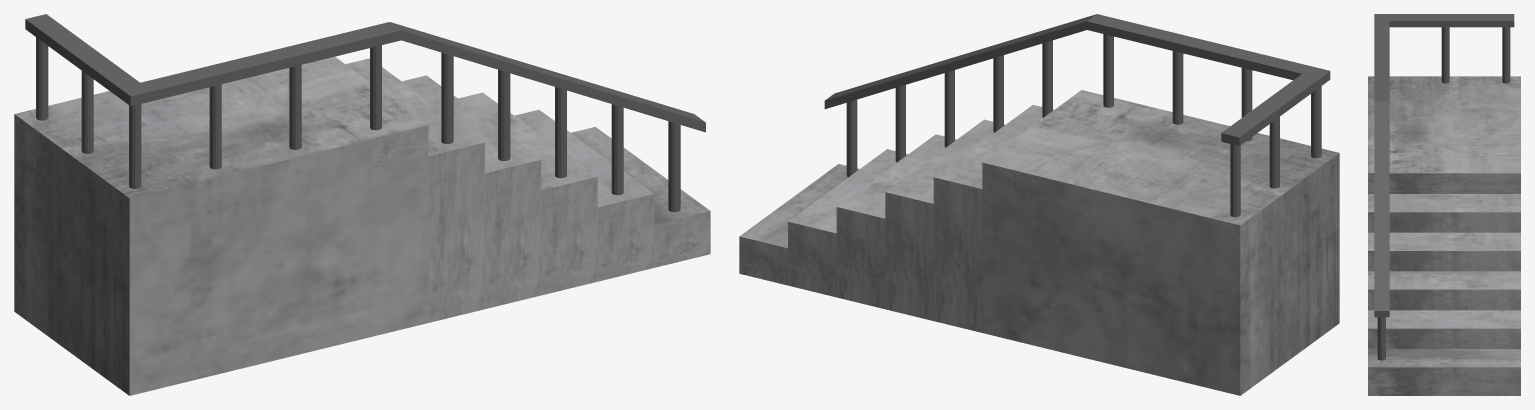
File: obj_stair.fbx
3 views of the same model, side by side, from view 1: azimuth 30°, elevation 25°; view 2: azimuth 150°, elevation 25°; view 3: azimuth 270°, elevation 25° (orthographic). The views are drawn at different scales.
Parts seen in each view (by area): view 1: obj_stair; view 2: obj_stair; view 3: obj_stair.
Part boxes in pixels (box(x1,y1,x2,y2)): obj_stair: box(14, 14, 710, 395); obj_stair: box(739, 14, 1339, 395); obj_stair: box(1368, 14, 1520, 395).
Size of the model in its own units: 6.53 by 3.16 by 2.24.
1 material, 1 textured.
